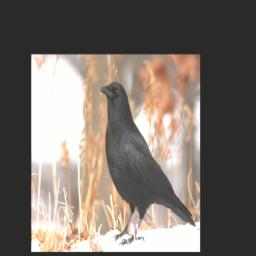Crow: (98, 78, 197, 247)
